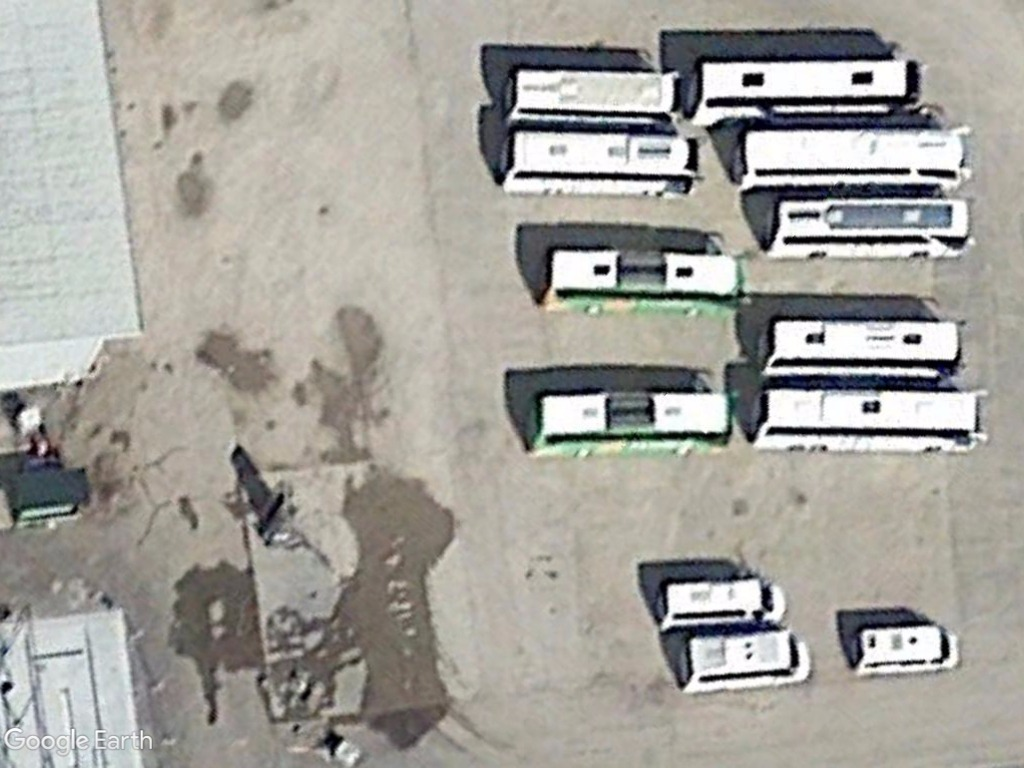bus: (678, 54, 929, 129), (744, 384, 989, 459), (532, 242, 748, 324), (520, 384, 739, 461), (728, 121, 973, 189), (752, 316, 967, 384), (754, 195, 975, 260), (496, 129, 704, 198), (495, 58, 682, 126)
van: (671, 627, 811, 697), (644, 573, 791, 631), (844, 618, 964, 679)
